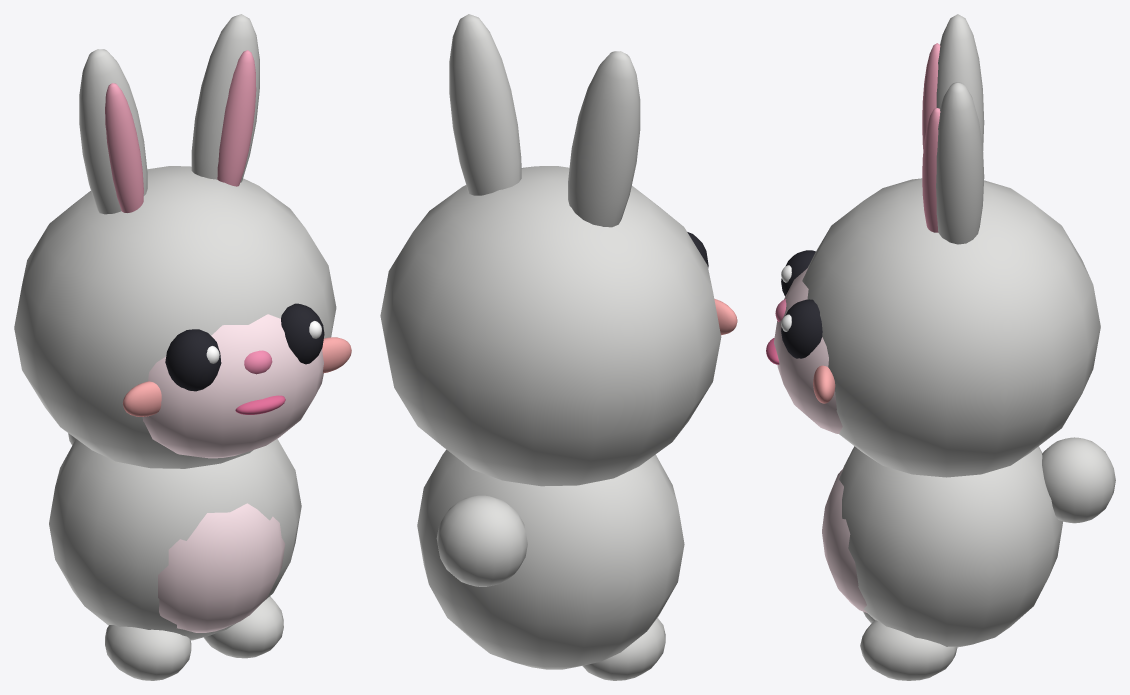
File: tho.glb
3 renders of one model, left to right at view 1: azimuth 30°, elevation 25°; view 2: azimuth 150°, elevation 25°; view 3: azimuth 270°, elevation 25°, orthographic. The views are drawn at different scales.
Parts seen in each view (by area): view 1: Head, Body, eyeL, eyeR, Mouth; view 2: Head, Body; view 3: Head, Body, eyeR, eyeL.
Boxes of the visible parts, left/top/right/bottom form: Head: left=14, top=14, right=351, bottom=468; Body: left=49, top=433, right=301, bottom=680; eyeL: left=165, top=329, right=221, bottom=391; eyeR: left=281, top=303, right=324, bottom=364; Mouth: left=235, top=395, right=285, bottom=414; Head: left=380, top=14, right=737, bottom=486; Body: left=417, top=449, right=684, bottom=680; Head: left=774, top=14, right=1100, bottom=477; Body: left=822, top=437, right=1115, bottom=680; eyeR: left=781, top=299, right=822, bottom=358; eyeL: left=781, top=250, right=815, bottom=296.
Size of the model in its own units: 0.86 by 1.78 by 0.93.
